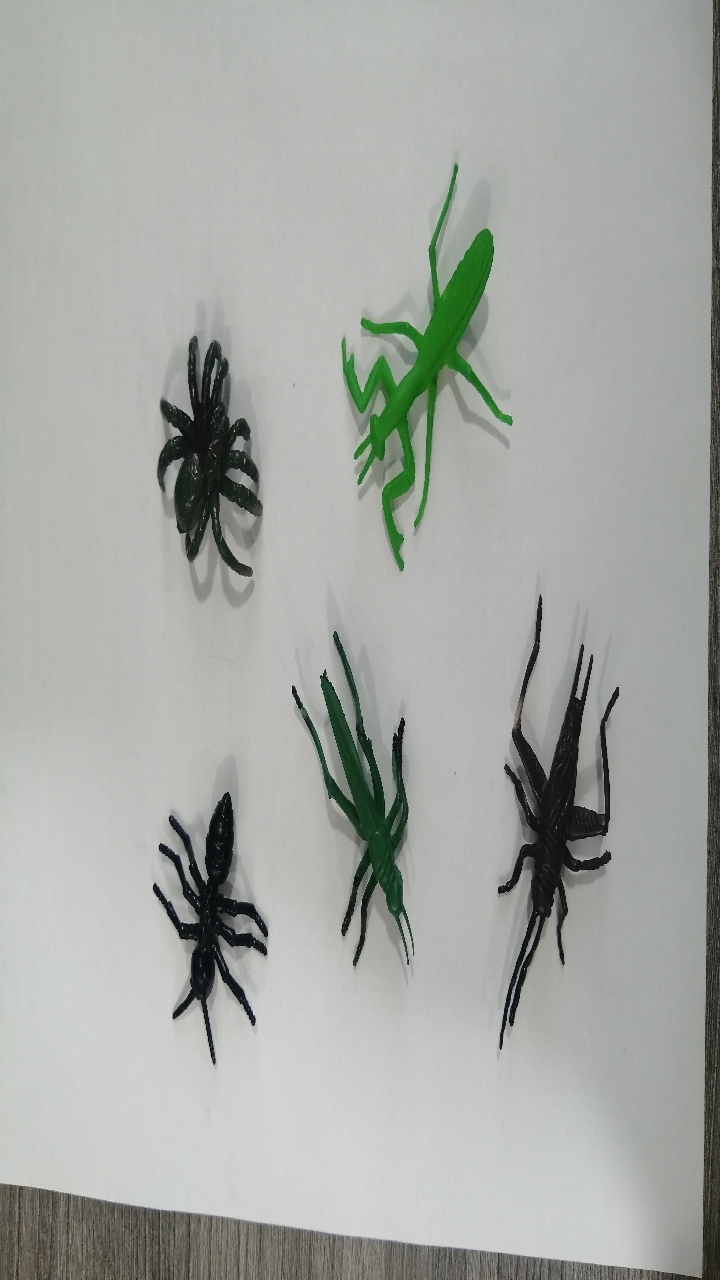intruso: (295, 149, 571, 612), (443, 559, 664, 1065), (106, 743, 309, 1111), (83, 285, 281, 642), (254, 606, 437, 989)
